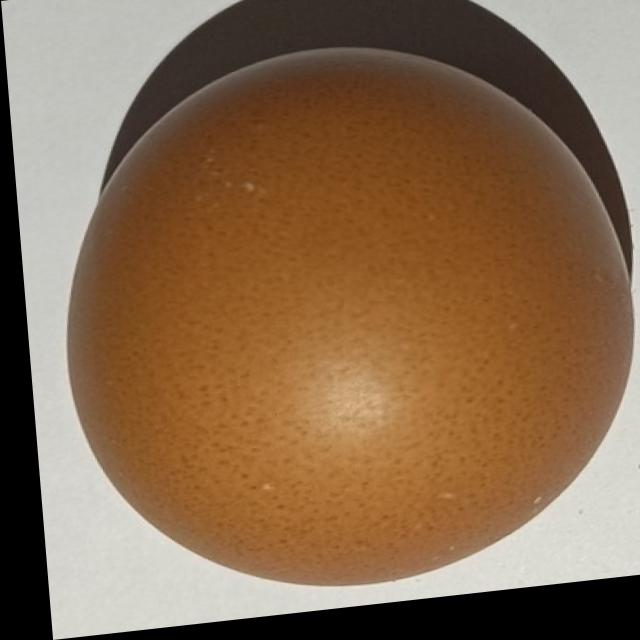unfresh: (19, 17, 640, 629)
